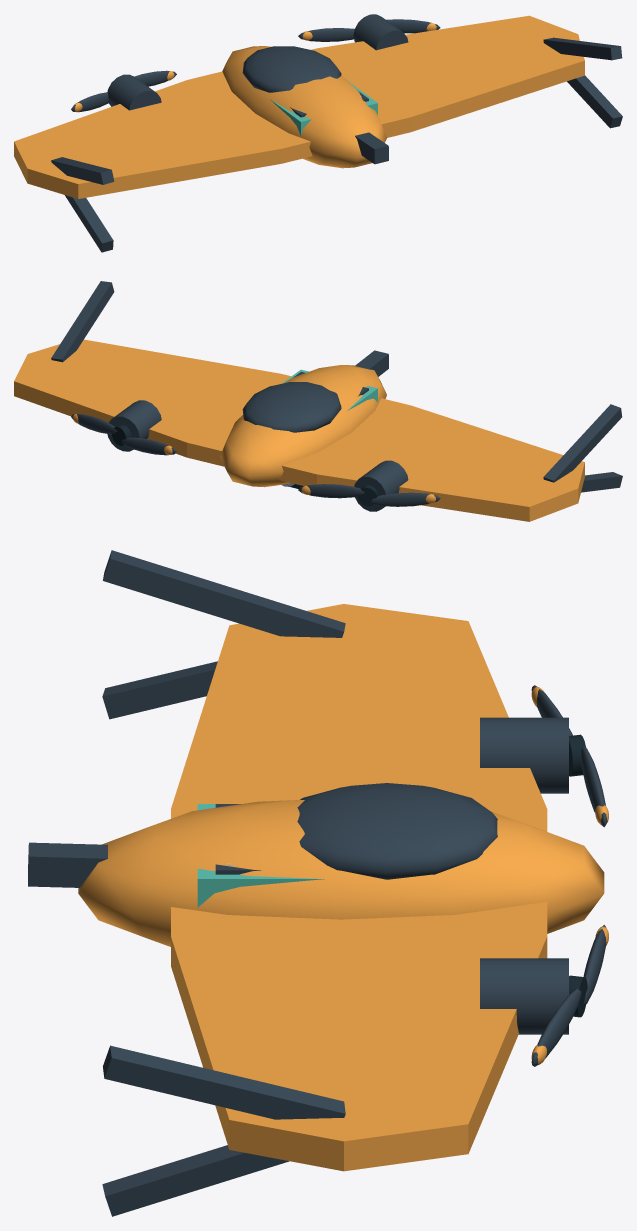
File: wingtraone-gen-ii.glb
The picture shows the model from 3 angles, top to bottom: view 1: azimuth 30°, elevation 25°; view 2: azimuth 150°, elevation 25°; view 3: azimuth 270°, elevation 25°; orthographic projection. The views are drawn at different scales.
Visible parts, largest first — view 1: part-wing-1, part-frame-2, part-landing-gear-3, part-motor-4, part-motor-7, part-propeller-8, part-propeller-5, part-battery-6; view 2: part-wing-1, part-frame-2, part-landing-gear-3, part-propeller-5, part-propeller-8, part-motor-7, part-motor-4; view 3: part-wing-1, part-frame-2, part-landing-gear-3, part-motor-4, part-motor-7, part-propeller-8, part-propeller-5, part-battery-9.
Part boxes in pixels (x1,y1,x2,y2): part-wing-1: [14, 15, 584, 198]; part-frame-2: [222, 46, 386, 168]; part-landing-gear-3: [51, 37, 622, 252]; part-motor-4: [107, 74, 161, 110]; part-motor-7: [353, 14, 408, 50]; part-propeller-8: [298, 19, 440, 41]; part-propeller-5: [71, 70, 176, 112]; part-battery-6: [270, 99, 311, 135]; part-wing-1: [14, 339, 584, 521]; part-frame-2: [220, 365, 386, 487]; part-landing-gear-3: [51, 281, 622, 492]; part-propeller-5: [298, 484, 440, 506]; part-propeller-8: [71, 414, 176, 455]; part-motor-7: [107, 400, 161, 451]; part-motor-4: [354, 460, 408, 511]; part-wing-1: [171, 604, 547, 1171]; part-frame-2: [78, 783, 604, 946]; part-landing-gear-3: [28, 550, 345, 1216]; part-motor-4: [480, 717, 568, 793]; part-motor-7: [480, 958, 568, 1034]; part-propeller-8: [531, 925, 608, 1066]; part-propeller-5: [531, 685, 608, 827]; part-battery-9: [197, 863, 324, 907].
Size of the model in its own units: 5 by 0.7768 by 2.28.
